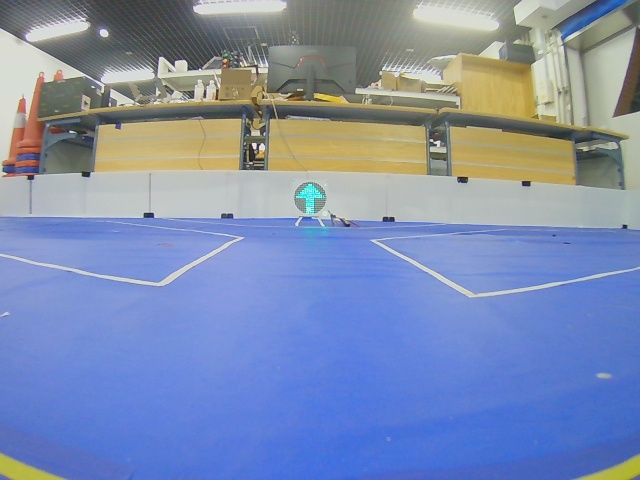straight_green: (294, 182, 326, 215)
